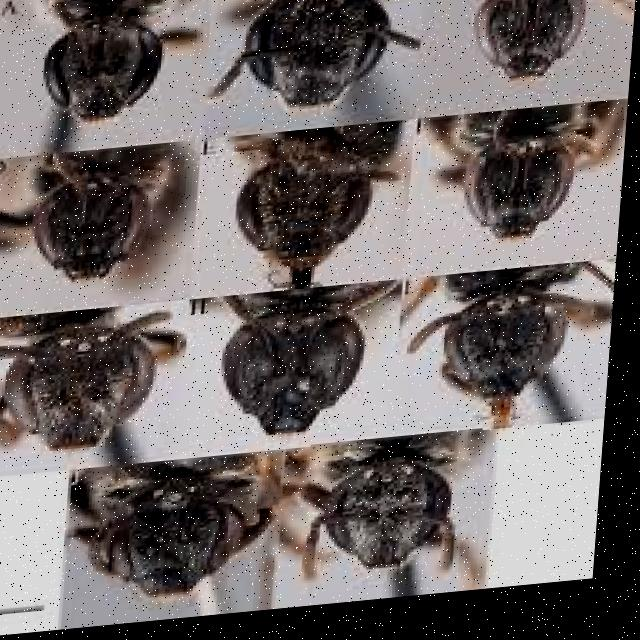Lasioglossum: (205, 277, 411, 461), (76, 454, 301, 608), (426, 277, 613, 462), (222, 116, 412, 289), (309, 436, 490, 607), (13, 136, 191, 301), (439, 90, 602, 270), (0, 300, 178, 464), (10, 0, 179, 138), (236, 0, 423, 122), (459, 0, 623, 106)
